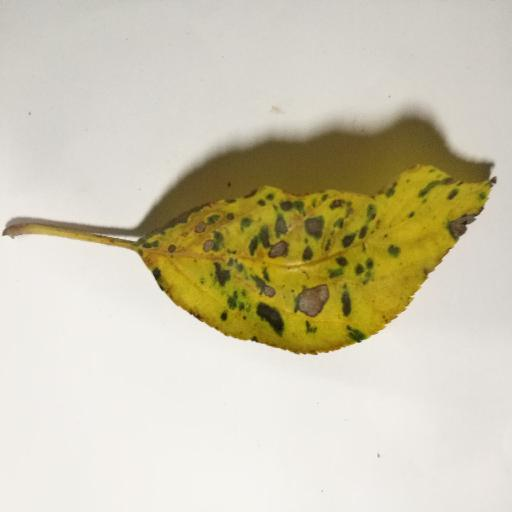Brown_Spot: (194, 215, 221, 255), (300, 212, 325, 245), (299, 280, 323, 312), (435, 218, 472, 237), (272, 243, 294, 261), (260, 280, 277, 298)
